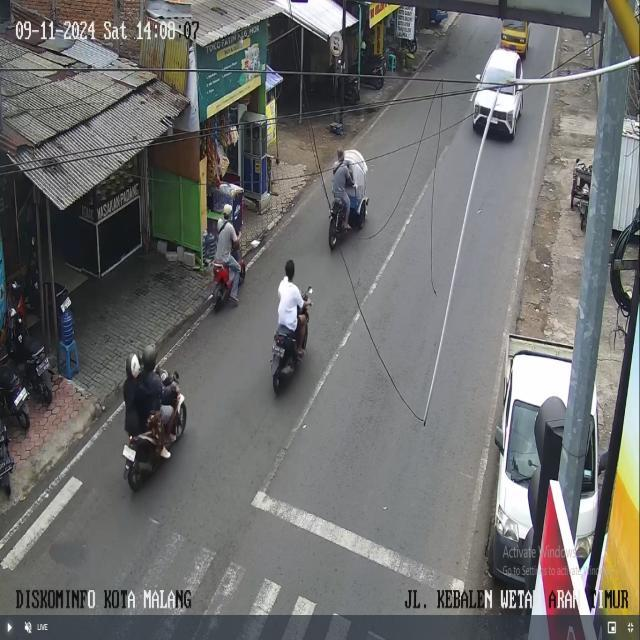Helmet: (126, 354, 141, 379), (142, 345, 156, 371), (223, 204, 232, 219)
Number Plate: (14, 388, 27, 406), (36, 358, 48, 375), (123, 445, 135, 461), (60, 297, 70, 312), (272, 345, 284, 356), (491, 118, 498, 124)
Rearview Mirror: (495, 423, 504, 454), (598, 451, 608, 474), (307, 287, 312, 294), (475, 74, 480, 80)
